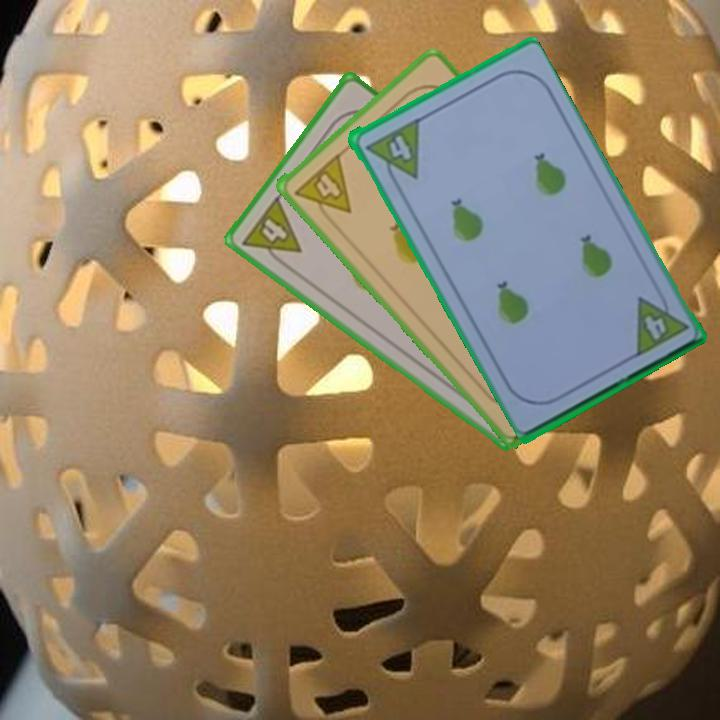4p: (238, 192, 305, 272), (290, 149, 354, 229), (361, 115, 422, 190), (631, 283, 691, 359)
